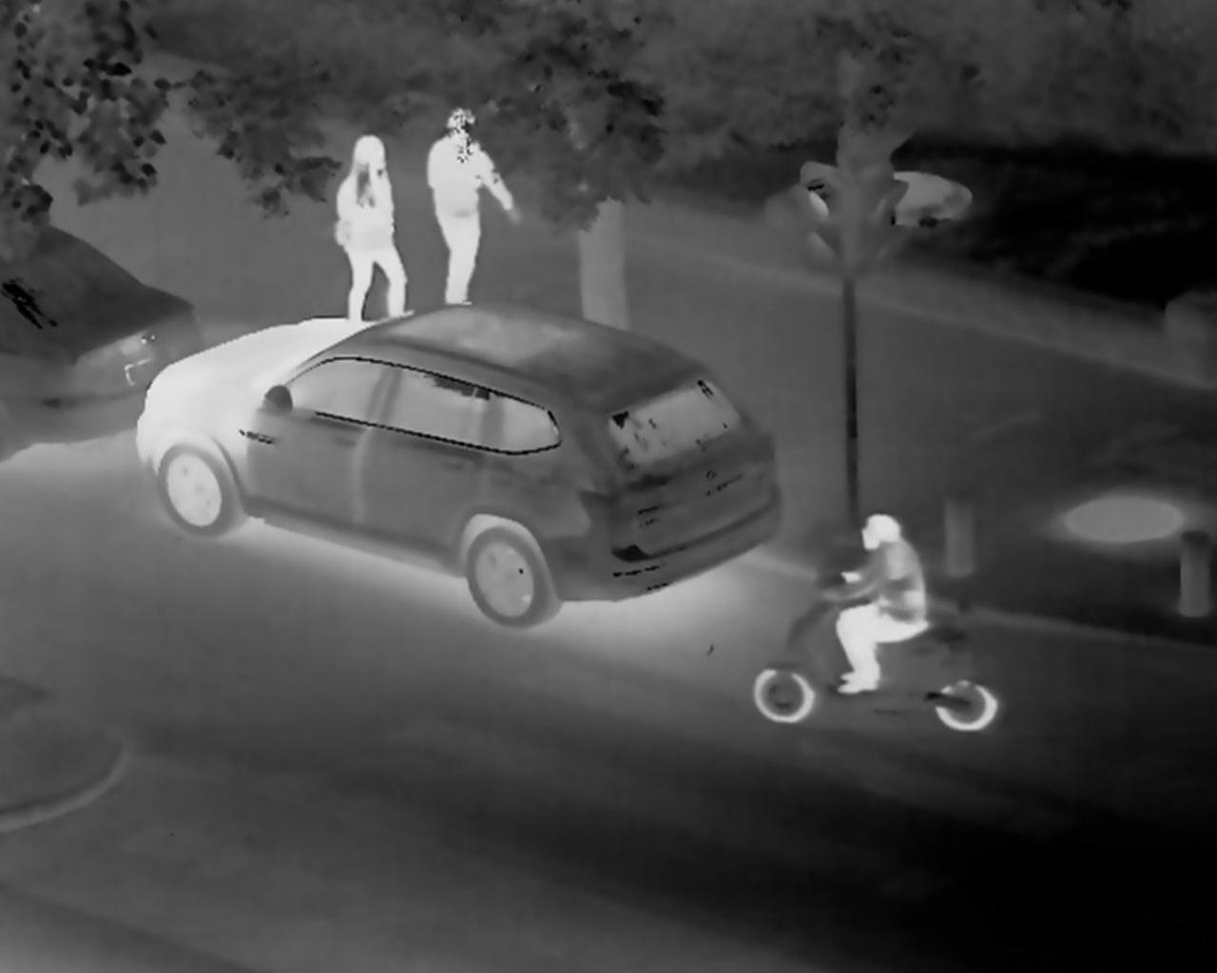person: (821, 508, 931, 698), (422, 105, 517, 306), (334, 135, 414, 320)
